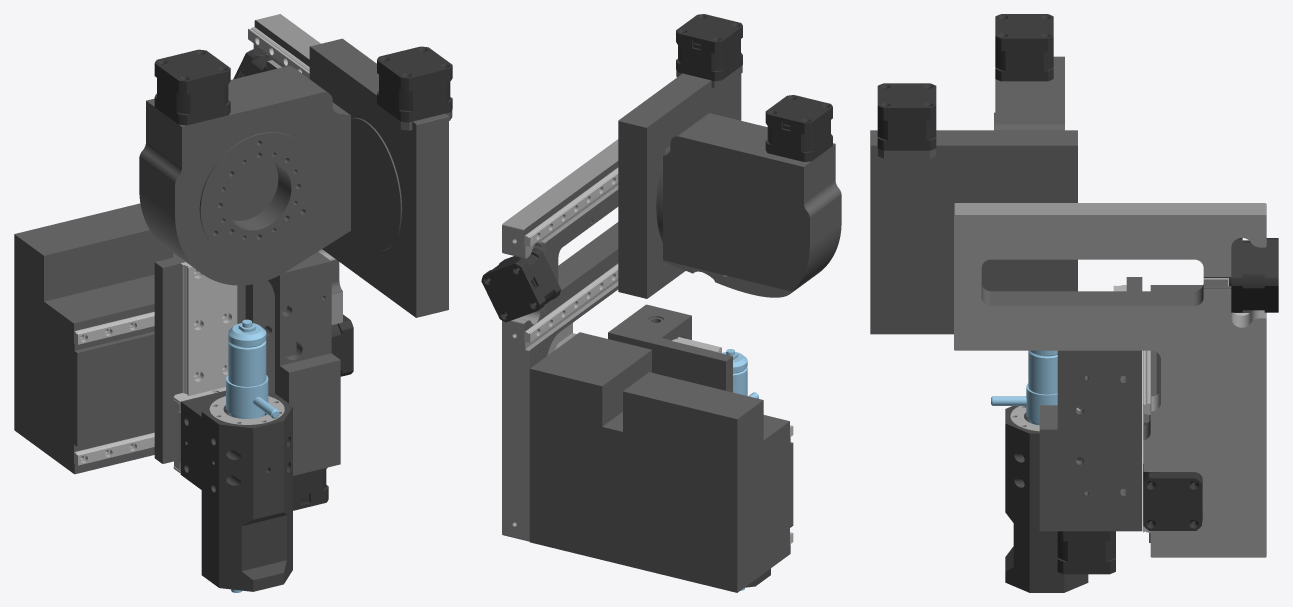
File: v2-50-simplified.glb
The picture shows the model from 3 angles, left to right: view 1: azimuth 30°, elevation 25°; view 2: azimuth 150°, elevation 25°; view 3: azimuth 270°, elevation 25°; orthographic projection. The views are drawn at different scales.
Parts seen in each view (by area): view 1: Main Block:1, Trunnion:1, X Carriage:1, 10083 - V2-50 Spindle Mount:1, A Axis Backing Plate:1, B Disc:1, _SRS15WM15216 Track:1, Part 1:1, L Bracket:1, Nema 17 Back:2, Nema 17 Back:5, Nema 17 Center:2 (+10 smaller); view 2: Main Block:1, Trunnion:1, L Bracket:1, A Axis Backing Plate:1, X Carriage:1, Nema 17 Back:4, Nema 17 Back:2, Nema 17 Back:5, _SRS9XM22613 Track:2, _SRS9XM22613 Track:1, Nema 17 Center:2, Nema 17 Center:5 (+4 smaller); view 3: L Bracket:1, A Axis Backing Plate:1, X Carriage:1, 10083 - V2-50 Spindle Mount:1, Trunnion:1, Nema 17 Back:3, Part 1:1, Nema 17 Back:5, Nema 17 Back:2, Nema 17 Center:4, Nema 17 Center:5, Nema 17 Center:2 (+8 smaller).
Boxes of the visible parts, x1=… form: Main Block:1: x1=14, y1=203, x2=177, y2=474; Trunnion:1: x1=139, y1=66, x2=402, y2=285; X Carriage:1: x1=154, y1=251, x2=340, y2=475; 10083 - V2-50 Spindle Mount:1: x1=180, y1=390, x2=292, y2=591; A Axis Backing Plate:1: x1=309, y1=38, x2=452, y2=317; B Disc:1: x1=199, y1=132, x2=318, y2=259; _SRS15WM15216 Track:1: x1=180, y1=262, x2=237, y2=395; Part 1:1: x1=226, y1=319, x2=279, y2=592; L Bracket:1: x1=253, y1=14, x2=342, y2=325; Nema 17 Back:2: x1=154, y1=49, x2=230, y2=94; Nema 17 Back:5: x1=377, y1=46, x2=452, y2=91; Nema 17 Center:2: x1=157, y1=64, x2=228, y2=114; Main Block:1: x1=529, y1=332, x2=793, y2=592; Trunnion:1: x1=656, y1=113, x2=841, y2=297; L Bracket:1: x1=502, y1=139, x2=618, y2=541; A Axis Backing Plate:1: x1=618, y1=65, x2=742, y2=298; X Carriage:1: x1=608, y1=304, x2=732, y2=392; Nema 17 Back:4: x1=481, y1=259, x2=545, y2=322; Nema 17 Back:2: x1=765, y1=95, x2=832, y2=134; Nema 17 Back:5: x1=676, y1=14, x2=742, y2=53; _SRS9XM22613 Track:2: x1=524, y1=167, x2=618, y2=246; _SRS9XM22613 Track:1: x1=524, y1=263, x2=618, y2=342; Nema 17 Center:2: x1=767, y1=108, x2=830, y2=152; Nema 17 Center:5: x1=678, y1=27, x2=740, y2=71; L Bracket:1: x1=954, y1=203, x2=1266, y2=557; A Axis Backing Plate:1: x1=870, y1=130, x2=1077, y2=334; X Carriage:1: x1=1039, y1=277, x2=1142, y2=531; 10083 - V2-50 Spindle Mount:1: x1=1005, y1=406, x2=1088, y2=592; Trunnion:1: x1=995, y1=56, x2=1064, y2=130; Nema 17 Back:3: x1=1143, y1=472, x2=1201, y2=530; Part 1:1: x1=991, y1=350, x2=1057, y2=425; Nema 17 Back:5: x1=877, y1=83, x2=936, y2=120; Nema 17 Back:2: x1=995, y1=14, x2=1053, y2=51; Nema 17 Center:4: x1=1242, y1=240, x2=1264, y2=310; Nema 17 Center:5: x1=877, y1=94, x2=936, y2=140; Nema 17 Center:2: x1=995, y1=25, x2=1053, y2=71.
Size of the model in its own units: 0.2299 by 0.4309 by 0.2951.
